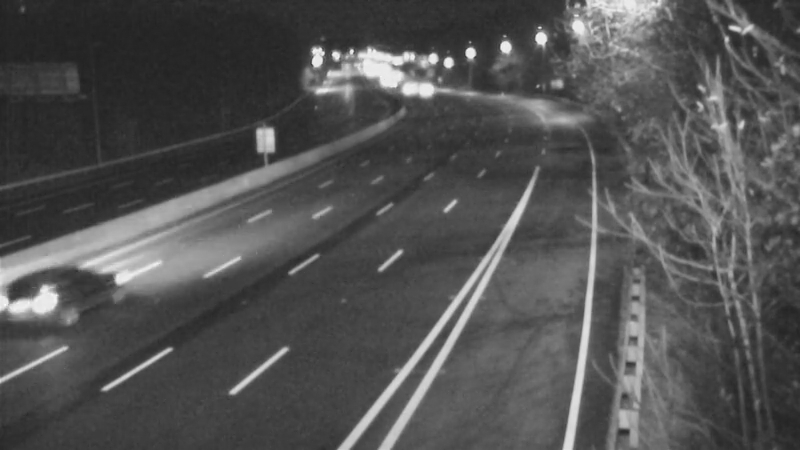vehicle: (1, 247, 98, 357), (379, 63, 429, 113), (400, 61, 450, 111)
